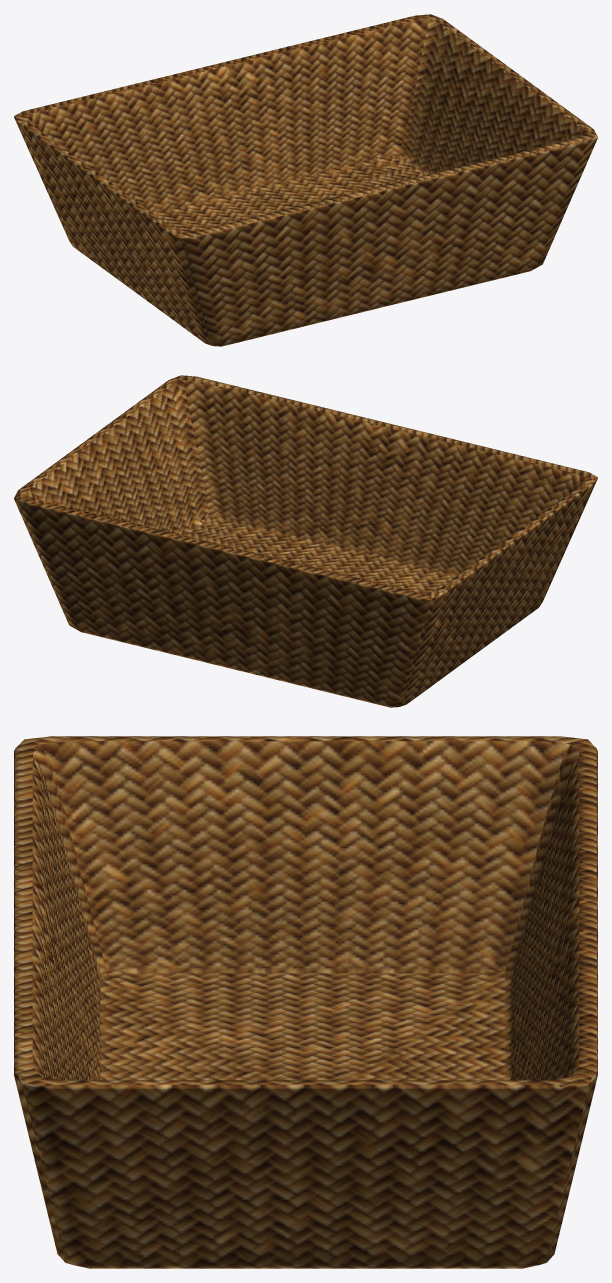
The model's file is Surplus Basket.fbx.
3 renders of one model, top to bottom at view 1: azimuth 30°, elevation 25°; view 2: azimuth 150°, elevation 25°; view 3: azimuth 270°, elevation 25°, orthographic. The views are drawn at different scales.
Visible parts, largest first — view 1: pCube10; view 2: pCube10; view 3: pCube10.
Boxes of the visible parts, box(x1,y1,x2,y2) form: pCube10: box(14, 14, 597, 346); pCube10: box(14, 375, 597, 707); pCube10: box(14, 736, 597, 1268).
Bounding box in the file's own units: 40.88 × 12.21 × 28.75.
